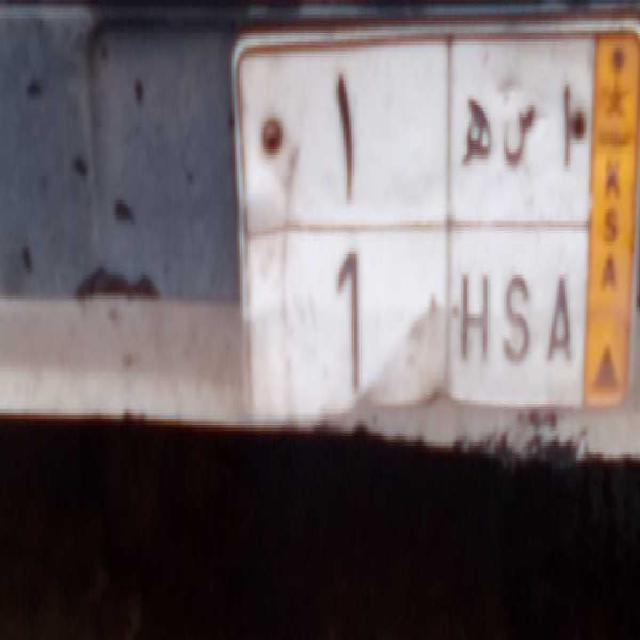license_plate: (245, 224, 585, 413)
